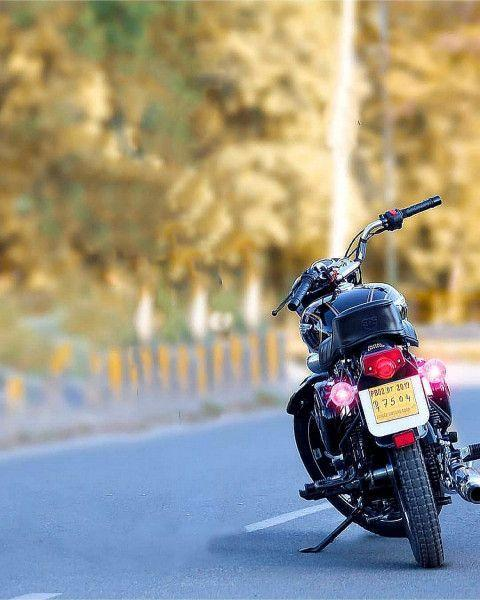motorcycle: (253, 192, 479, 570)
